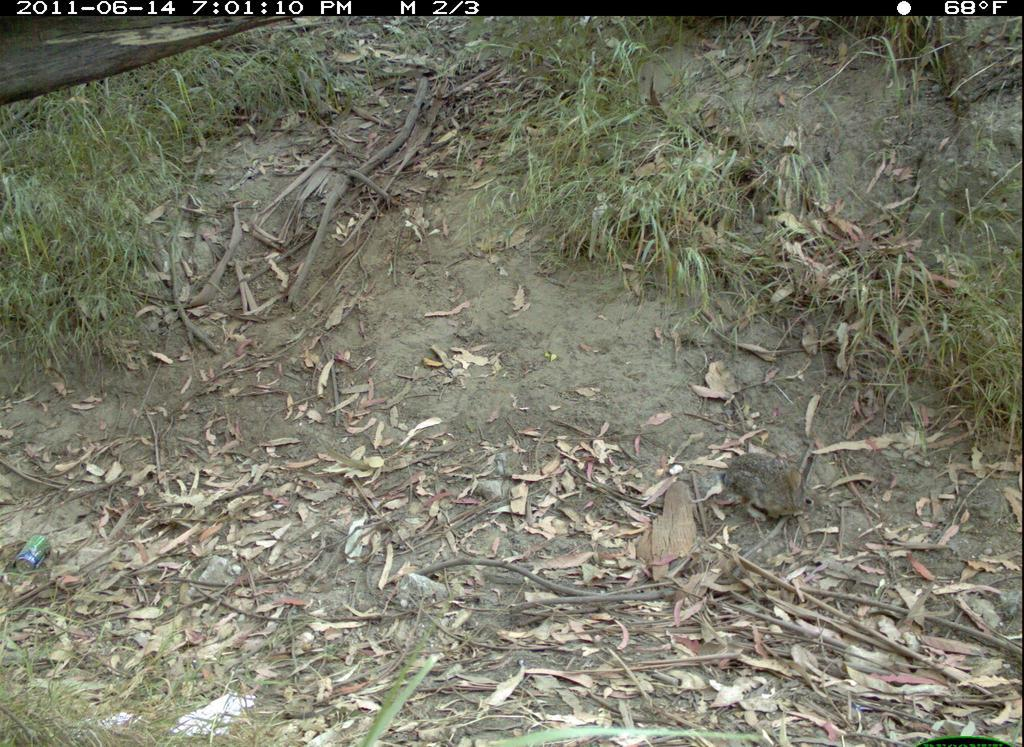rabbit: (721, 423, 835, 539)
